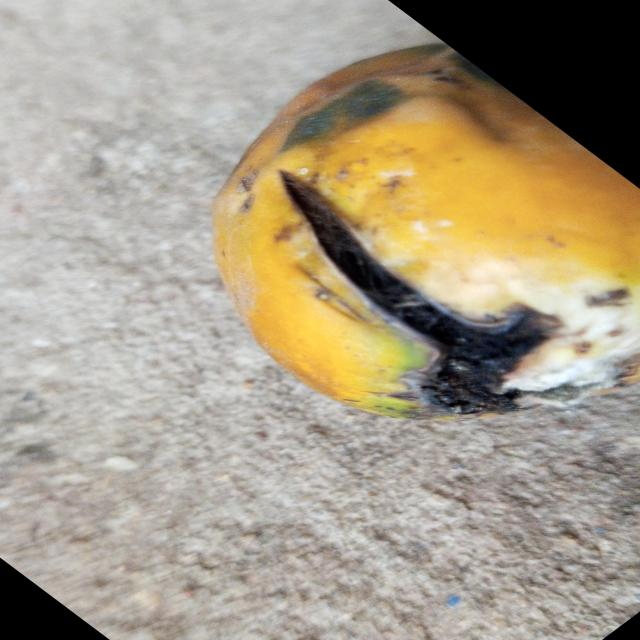damaged: (211, 44, 640, 420)
